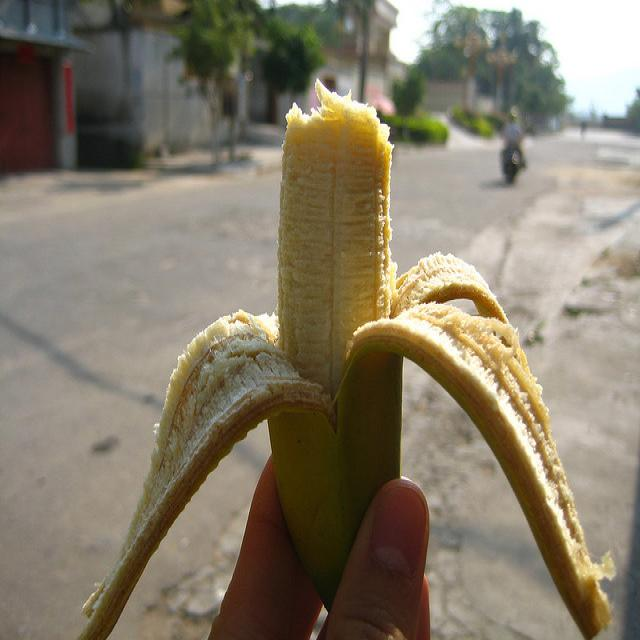motor: (502, 145, 521, 186)
